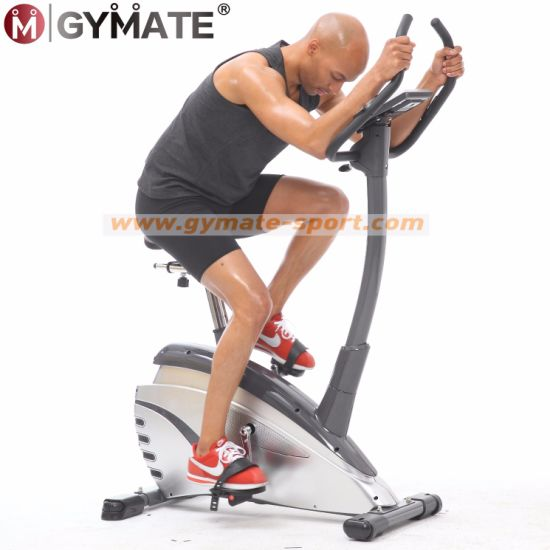gym_bike: (97, 25, 461, 541)
